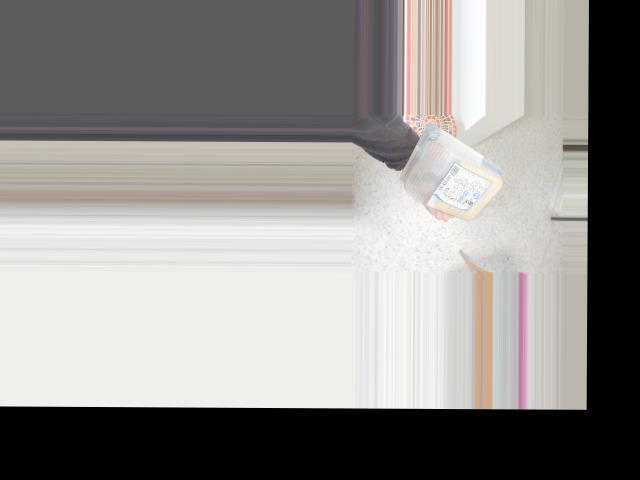cheese: (400, 130, 509, 221)
